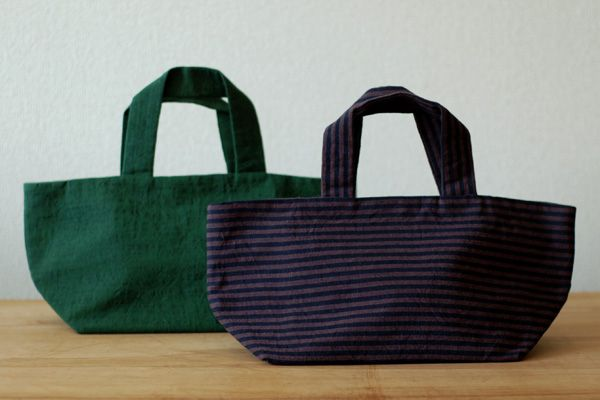nylon: (24, 67, 576, 365)
